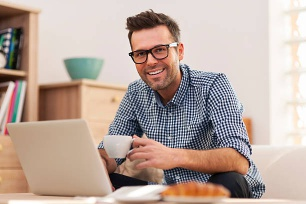male: (128, 15, 187, 89)
